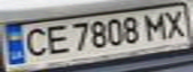0: (106, 16, 127, 47)
7: (69, 19, 90, 52)
8: (121, 14, 145, 45), (87, 18, 109, 50)
C: (18, 25, 51, 60)
E: (42, 21, 72, 56)
M: (139, 10, 172, 42)
X: (157, 7, 190, 39)
